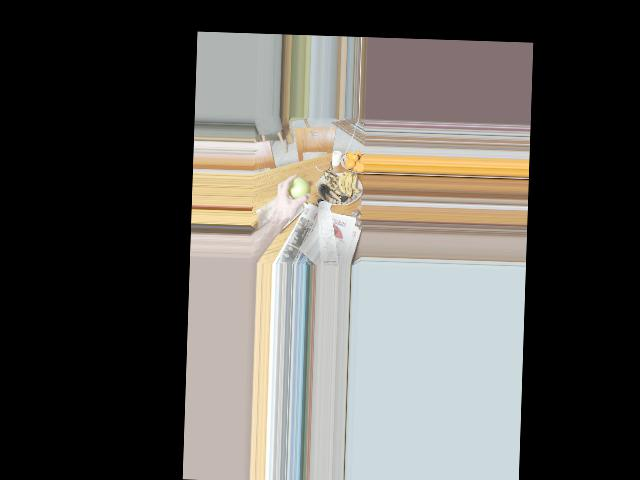apple: (287, 175, 308, 200)
